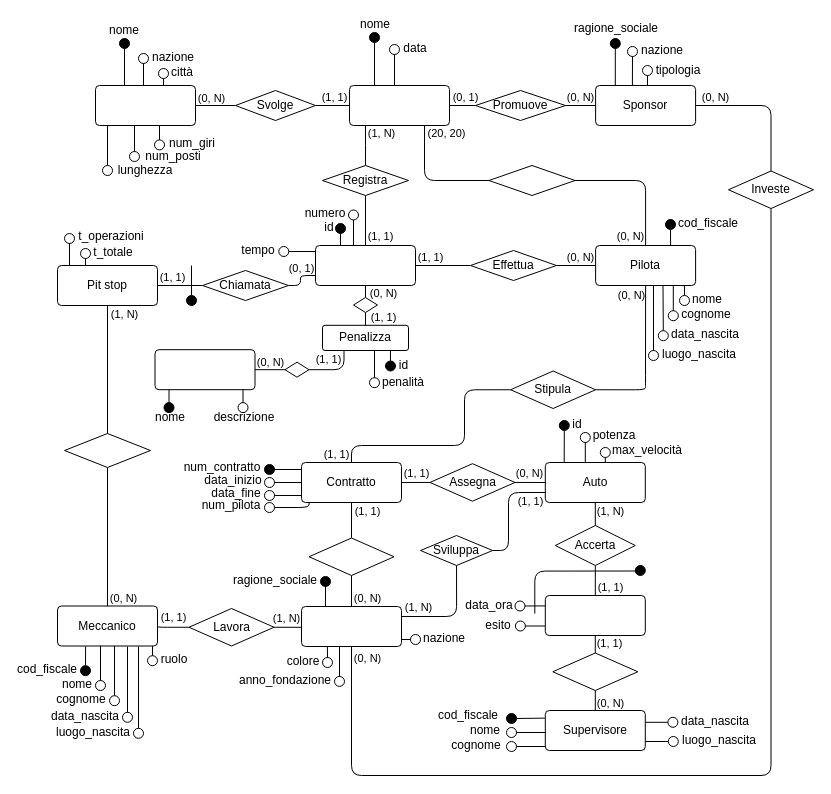
This 831x794 diagram has some shape labels left out. The centre of each missing label's shape, as x and y in pixels:
"Controllo" belongs at point (594, 615).
"Emette" belongs at point (351, 556).
"Gara" belongs at point (399, 105).
"Giro" belongs at point (365, 265).
"Infrazione" belongs at point (204, 369).
"Opera" belongs at point (107, 450).
"Partecipa" belongs at point (531, 180).
"Pista" belongs at point (145, 105).
"Scuderia" belongs at point (351, 626).
"Verifica" belongs at point (595, 671).
